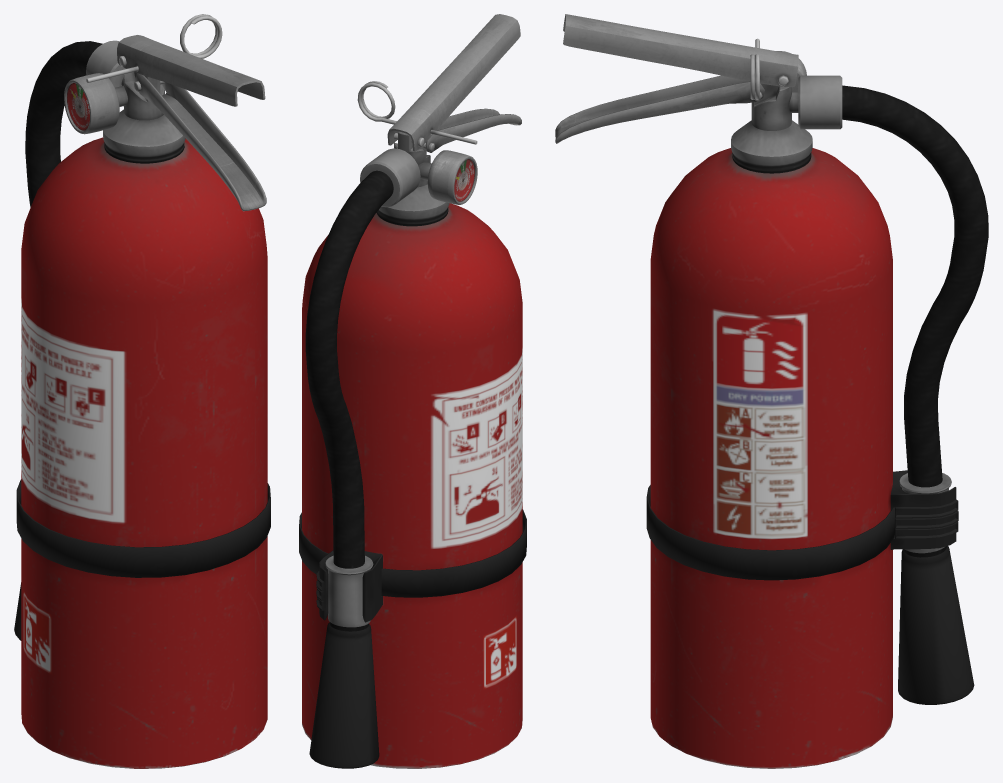
3 renders of one model, left to right at view 1: azimuth 30°, elevation 25°; view 2: azimuth 150°, elevation 25°; view 3: azimuth 270°, elevation 25°, orthographic. The views are drawn at different scales.
Parts seen in each view (by area): view 1: Canister_, Belt_, Hose_, Lever_Bottom_, Lever_Top_, Pin_, Pressure_Gauge_Glass_; view 2: Canister_, Hose_, Lever_Top_, Belt_, Holster_, Lever_Bottom_, Pin_, Pressure_Gauge_Glass_; view 3: Canister_, Hose_, Belt_, Lever_Top_, Lever_Bottom_, Holster_.
Part boxes in pixels (bbox=[...]): Canister_: bbox=[21, 68, 267, 768]; Belt_: bbox=[16, 479, 270, 577]; Hose_: bbox=[14, 40, 125, 640]; Lever_Bottom_: bbox=[135, 73, 266, 211]; Lever_Top_: bbox=[117, 35, 265, 106]; Pin_: bbox=[86, 14, 222, 82]; Pressure_Gauge_Glass_: bbox=[67, 83, 89, 130]; Canister_: bbox=[302, 131, 522, 768]; Hose_: bbox=[305, 148, 420, 768]; Lever_Top_: bbox=[387, 14, 520, 151]; Belt_: bbox=[299, 509, 526, 597]; Holster_: bbox=[316, 550, 382, 622]; Lever_Bottom_: bbox=[425, 108, 521, 152]; Pin_: bbox=[357, 81, 477, 144]; Pressure_Gauge_Glass_: bbox=[454, 159, 474, 201]; Canister_: bbox=[650, 51, 892, 768]; Hose_: bbox=[789, 75, 988, 704]; Belt_: bbox=[646, 485, 894, 580]; Lever_Top_: bbox=[563, 14, 798, 87]; Lever_Bottom_: bbox=[555, 75, 764, 143]; Holster_: bbox=[890, 470, 958, 549].
Size of the model in its own units: 1.78 by 5.49 by 3.08.
1 material, 1 textured.
